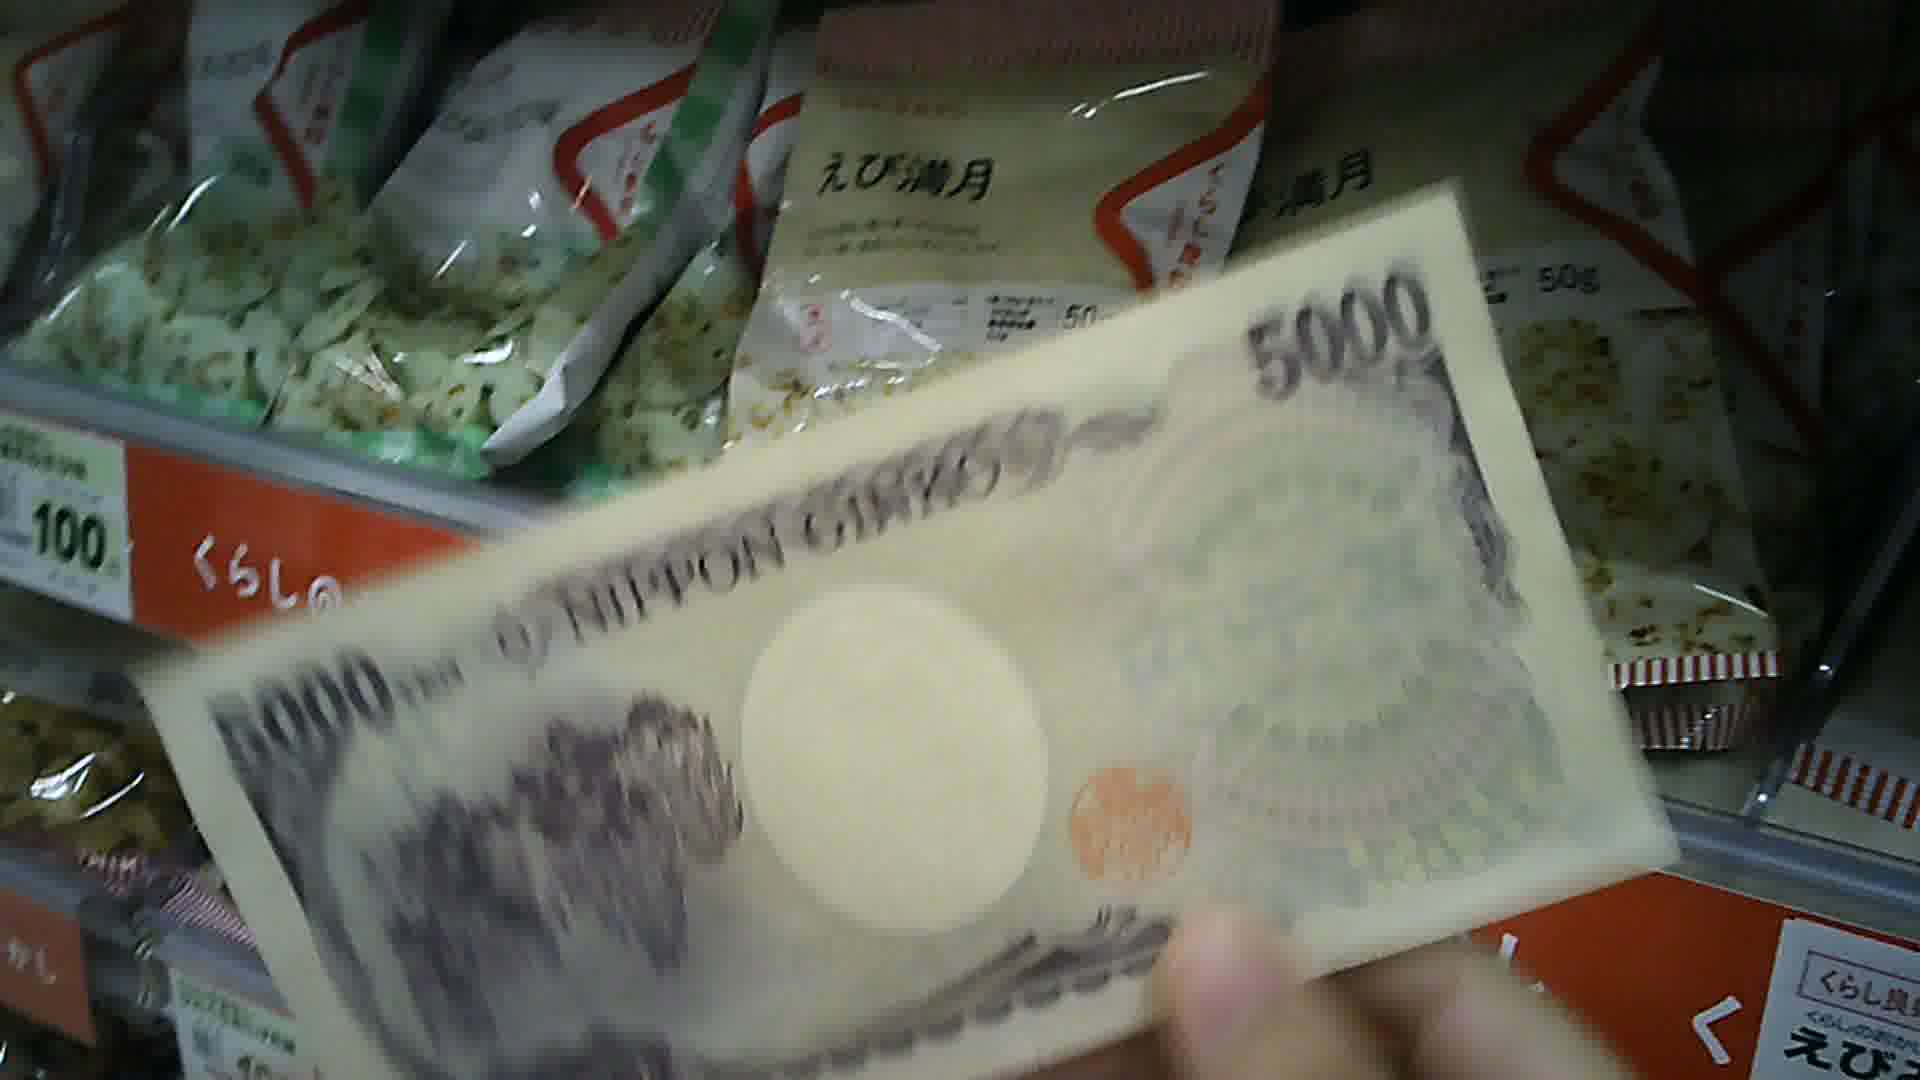5,000 Yen: (140, 222, 1671, 1056)
